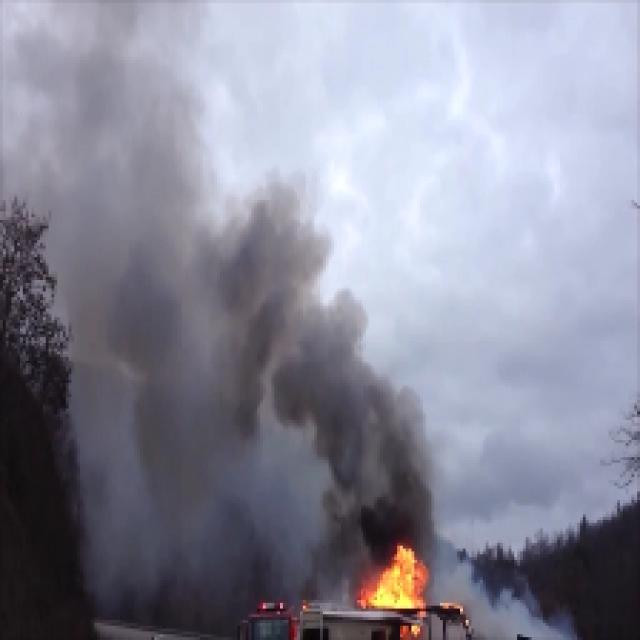fire: (362, 546, 423, 608)
smoke: (213, 238, 326, 430), (324, 374, 426, 543)
